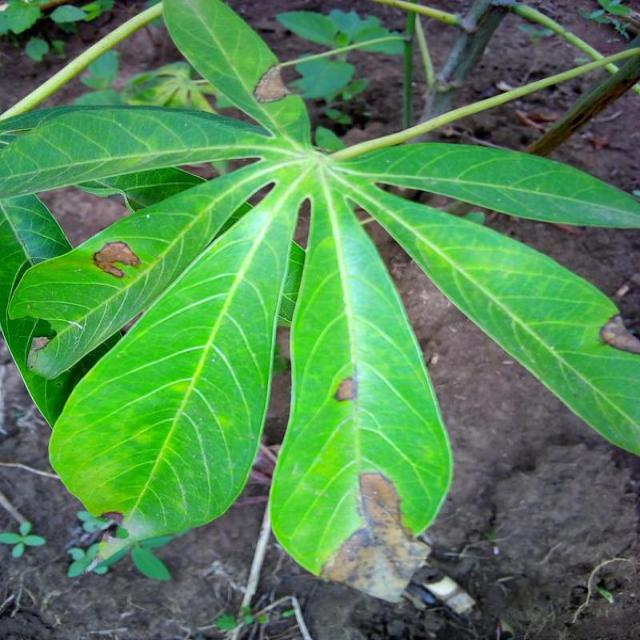cassava leaf: (0, 0, 638, 587), (46, 170, 304, 548), (267, 166, 454, 584)
